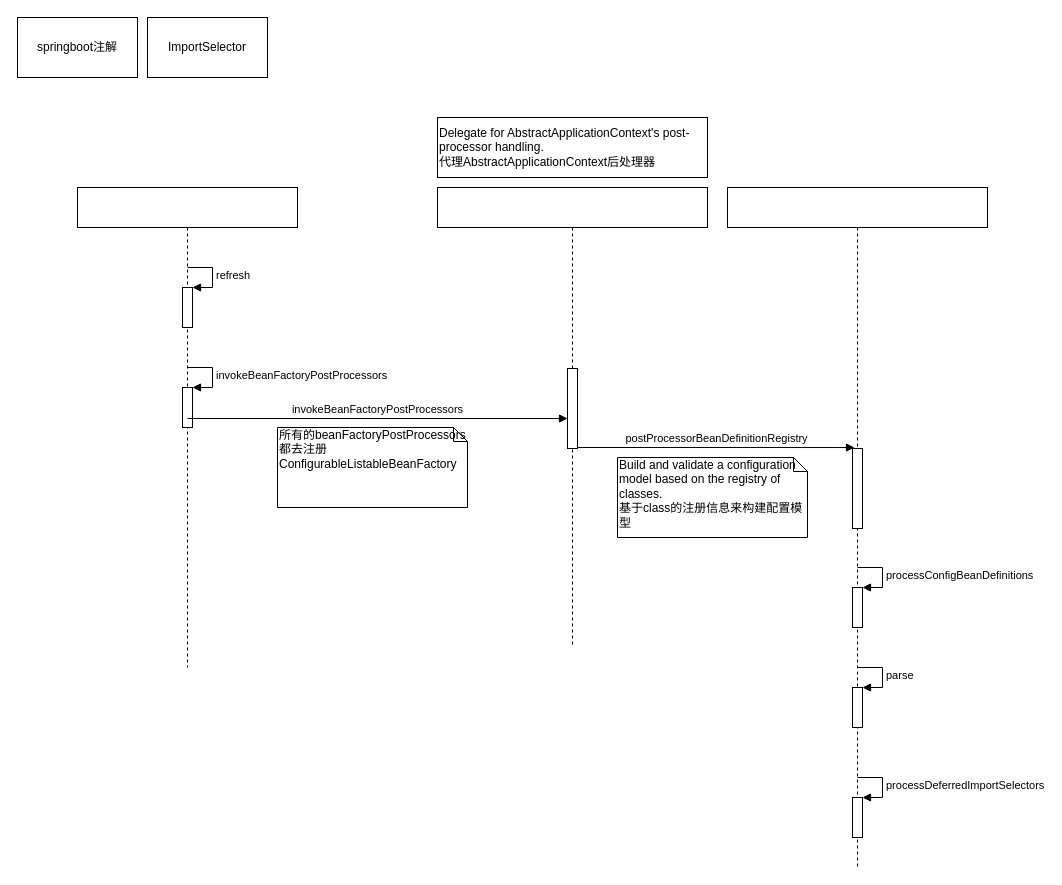
Some shapes in this 1062 by 885 pixel diagram are drawn without their labels. Each missing label, with the centre of its shape:
"AbstractApplicationContext" goes at [187,427].
"ConfigurationClassPostProcessor" goes at [857,527].
"PostProcessorRegistrationDelegate" goes at [572,417].
